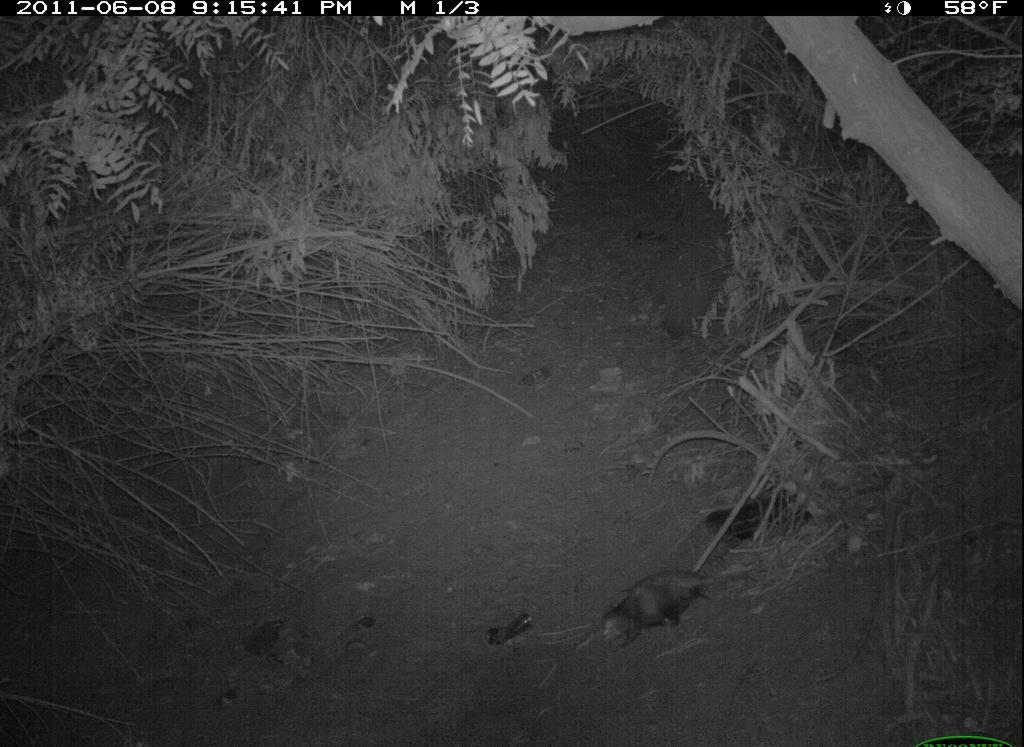opossum: (588, 560, 757, 660)
